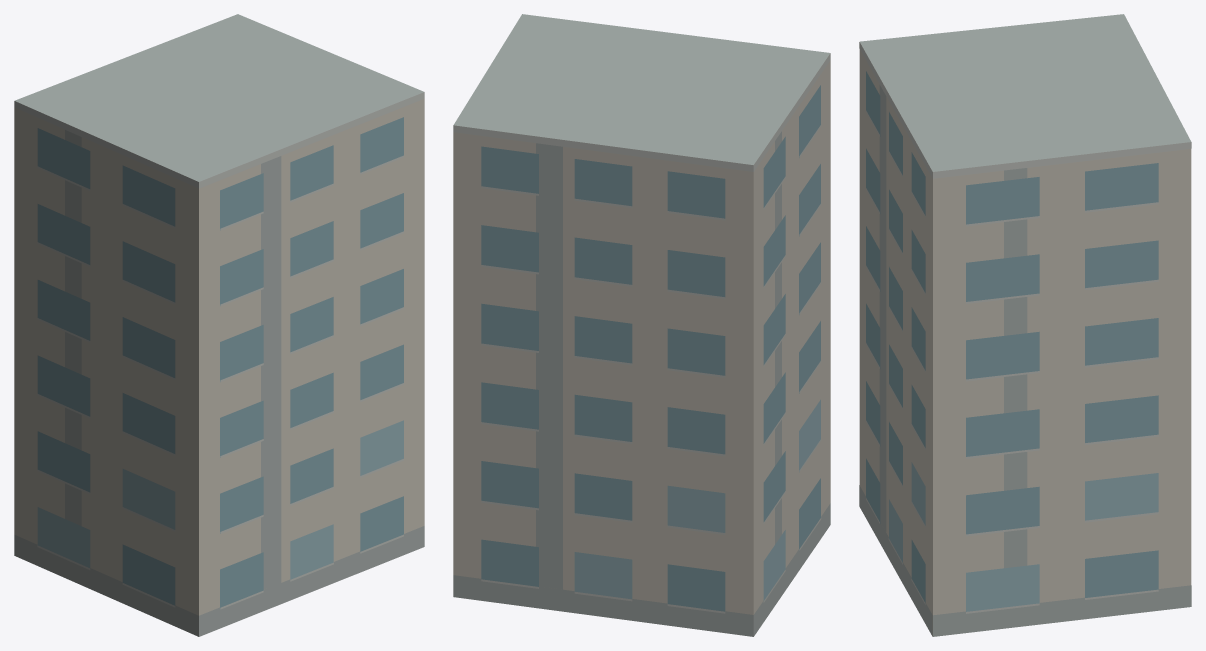
File: survey-upis-32821406.glb
3 renders of one model, left to right at view 1: azimuth 30°, elevation 25°; view 2: azimuth 150°, elevation 25°; view 3: azimuth 270°, elevation 25°, orthographic. The views are drawn at different scales.
Parts seen in each view (by area): view 1: survey-upis-32821406.tmp; view 2: survey-upis-32821406.tmp; view 3: survey-upis-32821406.tmp.
Part boxes in pixels (<box>): survey-upis-32821406.tmp: <box>14,14,424,636</box>; survey-upis-32821406.tmp: <box>453,14,830,636</box>; survey-upis-32821406.tmp: <box>859,14,1191,636</box>.
Size of the model in its own units: 12.18 by 16.7 by 10.82.
